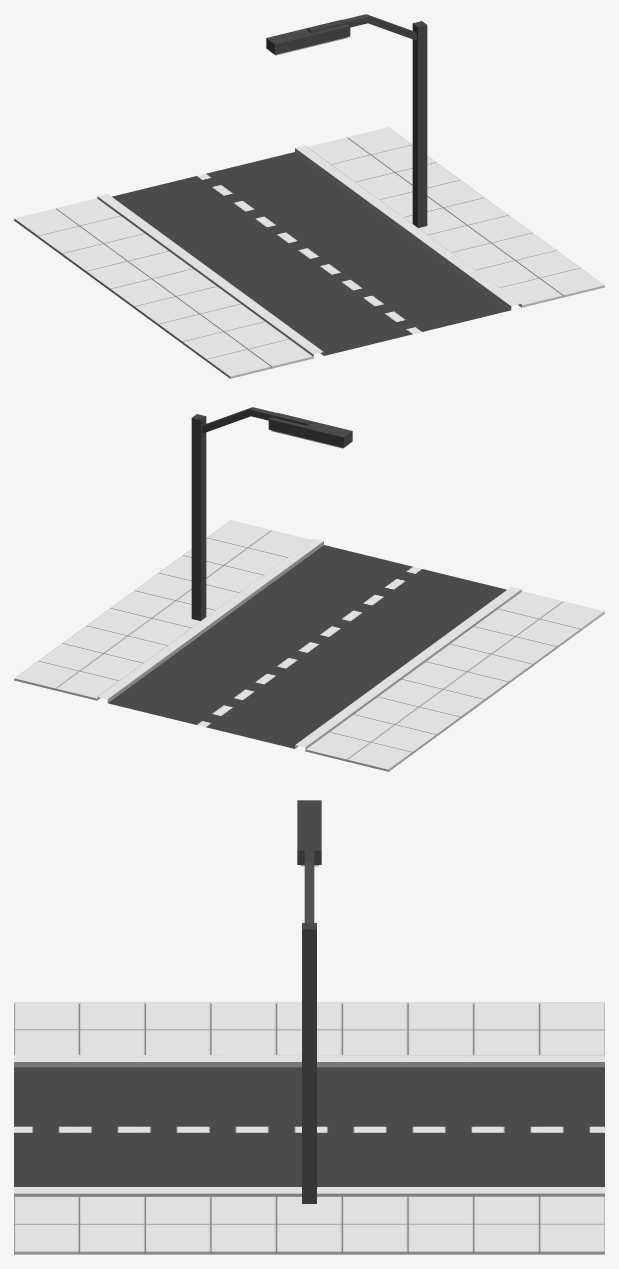
File: RoadA.fbx
3 renders of one model, top to bottom at view 1: azimuth 30°, elevation 25°; view 2: azimuth 150°, elevation 25°; view 3: azimuth 270°, elevation 25°, orthographic. The views are drawn at different scales.
Parts seen in each view (by area): view 1: Road_A; view 2: Road_A; view 3: Road_A.
Part boxes in pixels (x1,y1,x2,y2): Road_A: [14, 14, 604, 378]; Road_A: [14, 407, 604, 771]; Road_A: [14, 800, 604, 1254].
Size of the model in its own units: 2000 by 1144 by 2000.
